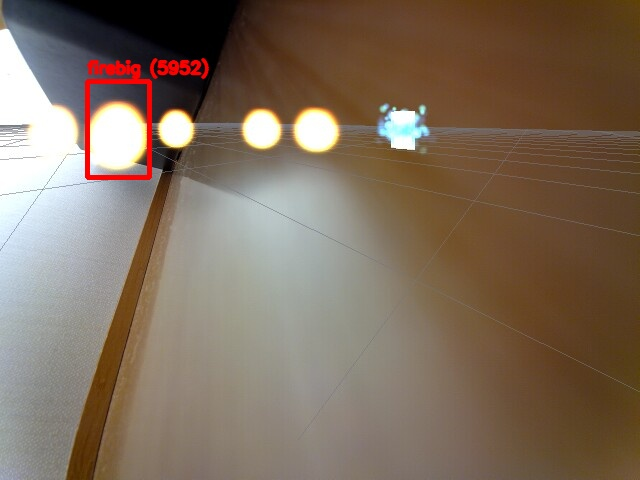firebig: (87, 81, 149, 177)
